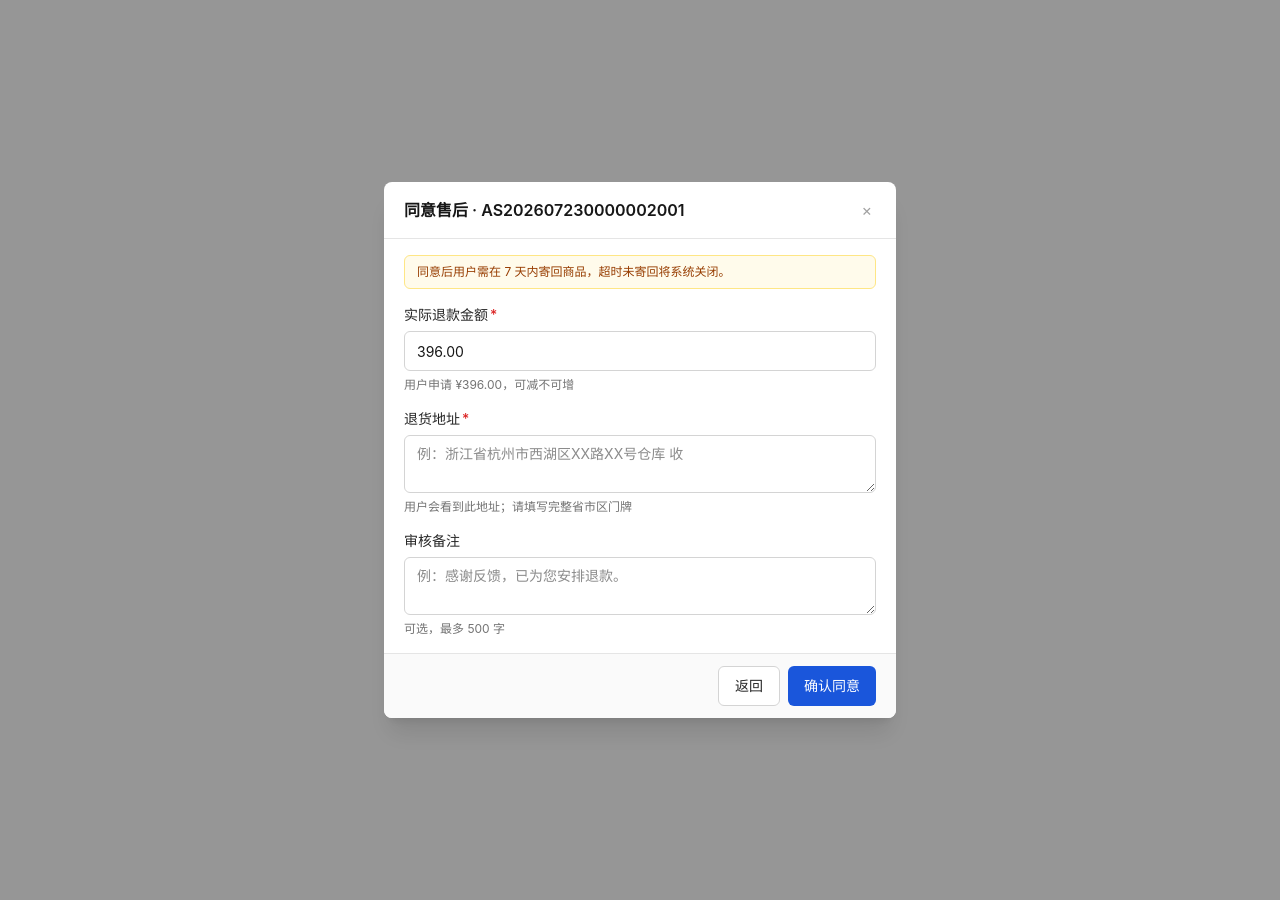
Test case: ApproveModal › actual_refund > 用户申请值时报错，不调 API
Note: 默认预填申请值；输入更大数字 500.00 元
Replace the text in the field with placeholder "0.00" with "500.00" at (640, 351), box [404,331,876,371]
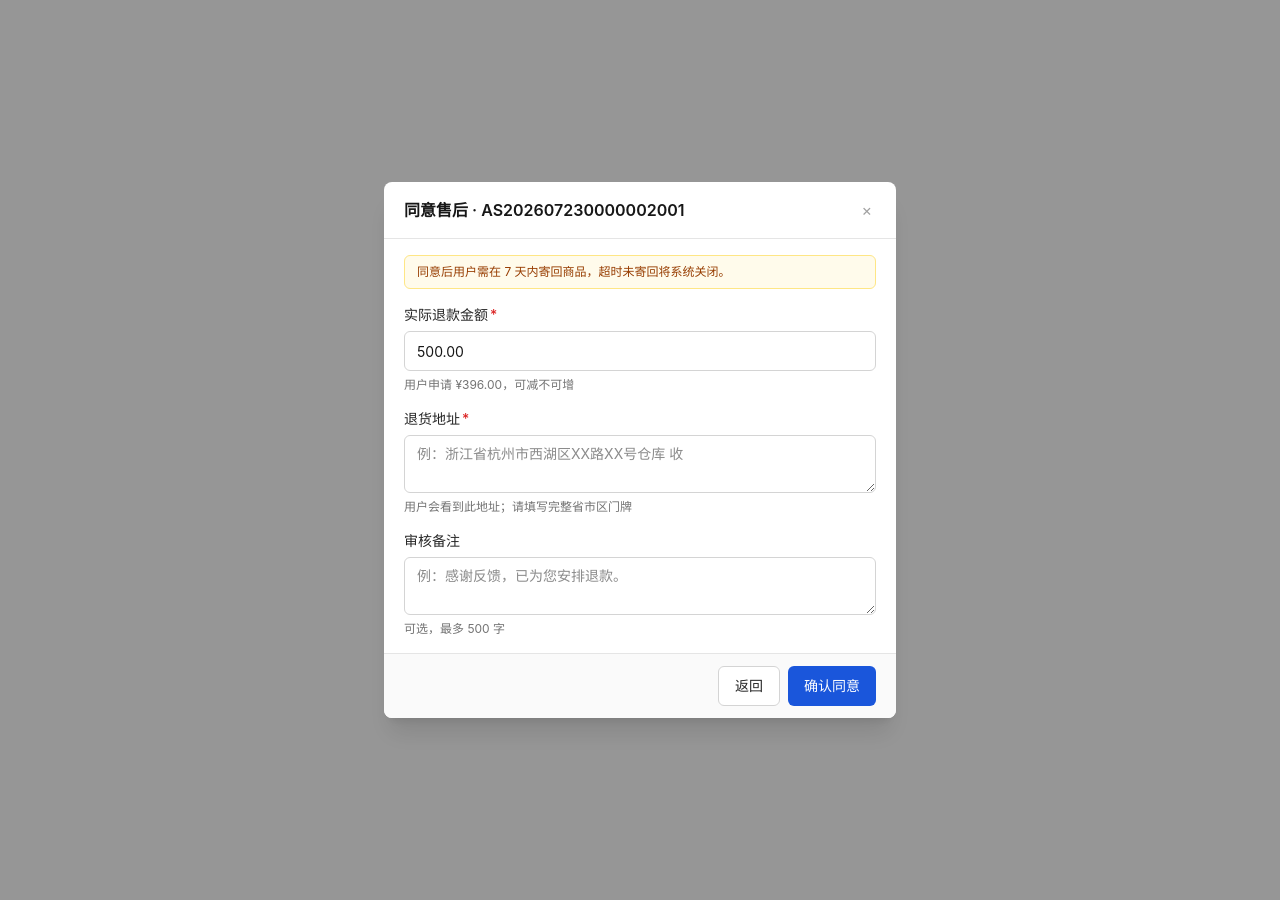
Note: 补一个合法的 return_address（≥ 10 字），单独验证金额校验
Type "浙江省杭州市西湖区某某路 88 号" into the text box with placeholder "例：浙江省杭州市西湖区XX路XX号仓库 收" at (640, 464), box [404,435,876,493]
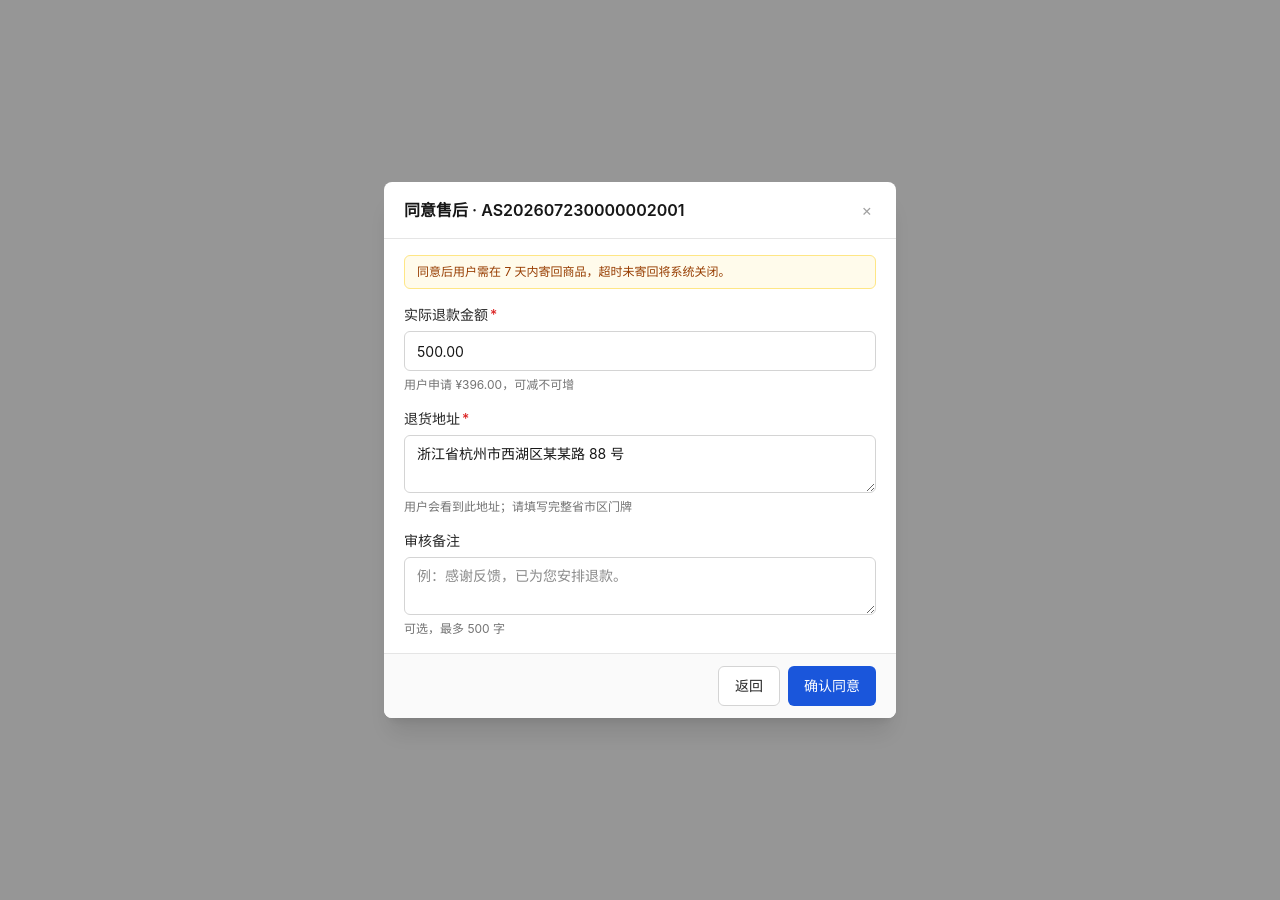
Click the button "确认同意" at (832, 686), box [788,666,876,706]
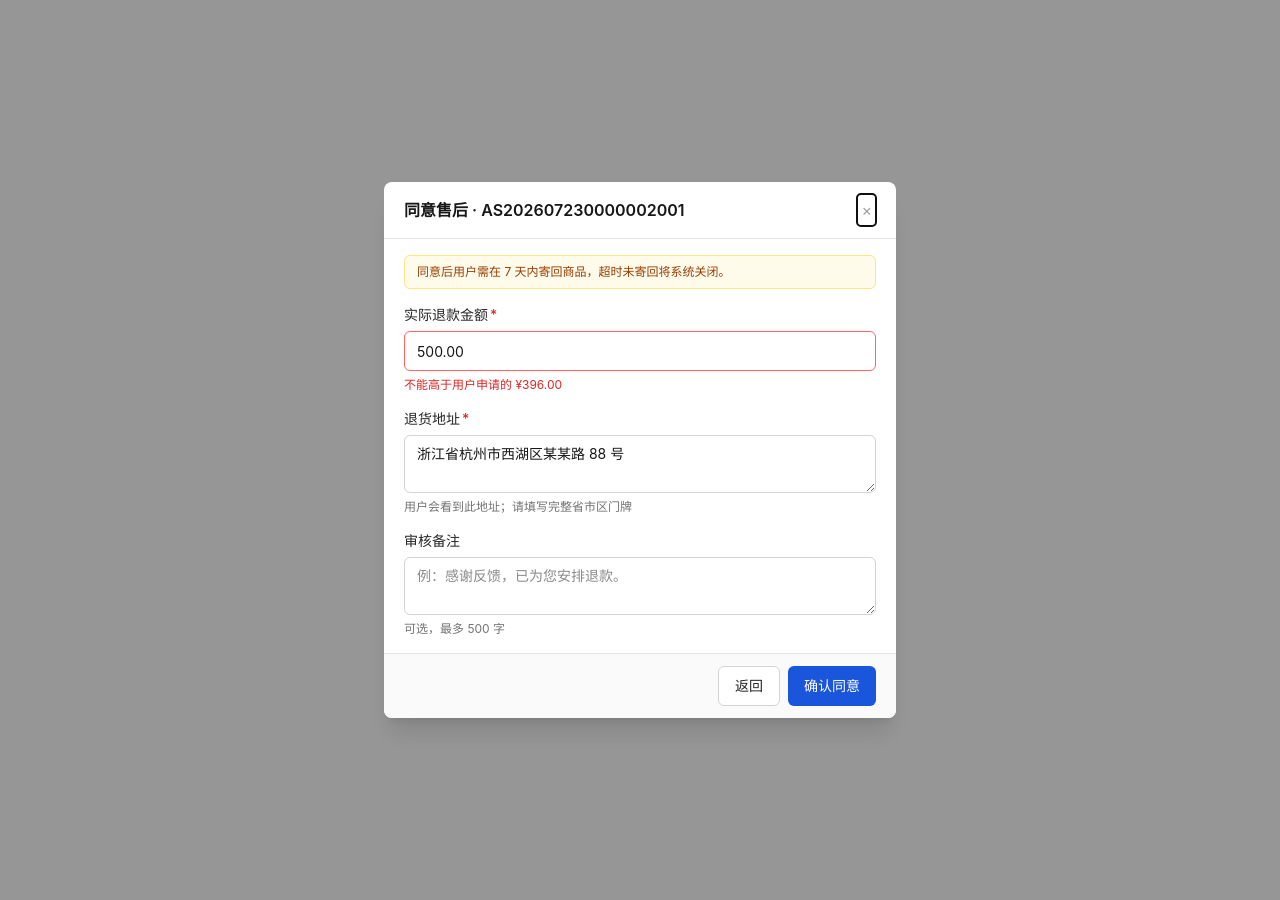
Check: the text "不能高于用户申请的 ¥396.00" is shown, box [404,377,562,392]
